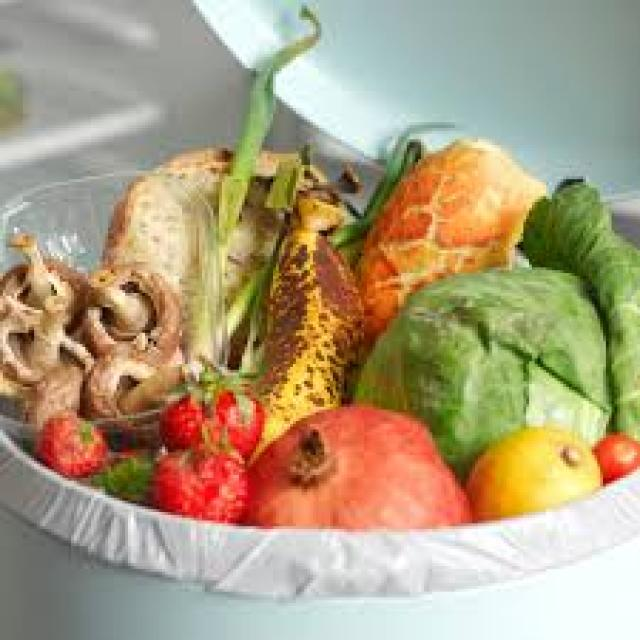Organik: (5, 11, 640, 634), (359, 250, 624, 463), (329, 100, 549, 323), (149, 351, 253, 536)
